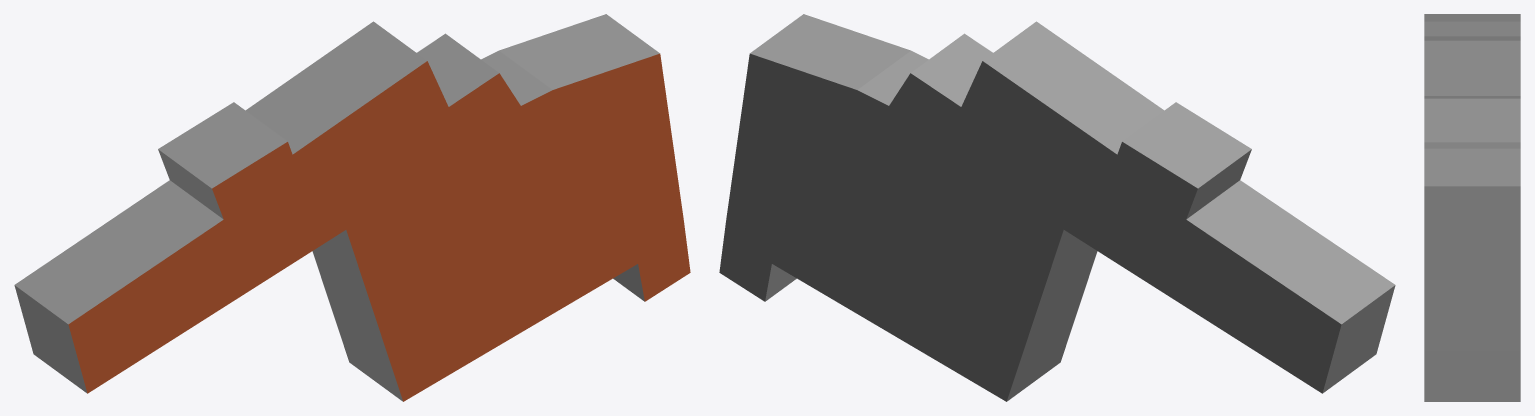
File: construction_4969_assumed_A_Casa_h6m.obj
The picture shows the model from 3 angles, left to right: view 1: azimuth 30°, elevation 25°; view 2: azimuth 150°, elevation 25°; view 3: azimuth 270°, elevation 25°; orthographic projection. The views are drawn at different scales.
Visible parts, largest first — view 1: construction_4969_assumed_A_Casa; view 2: construction_4969_assumed_A_Casa; view 3: construction_4969_assumed_A_Casa.
Part boxes in pixels (<box>): construction_4969_assumed_A_Casa: <box>14,14,690,401</box>; construction_4969_assumed_A_Casa: <box>719,14,1395,401</box>; construction_4969_assumed_A_Casa: <box>1424,14,1520,401</box>.
Bounding box in the file's own units: 39.93 × 20.56 × 6.
